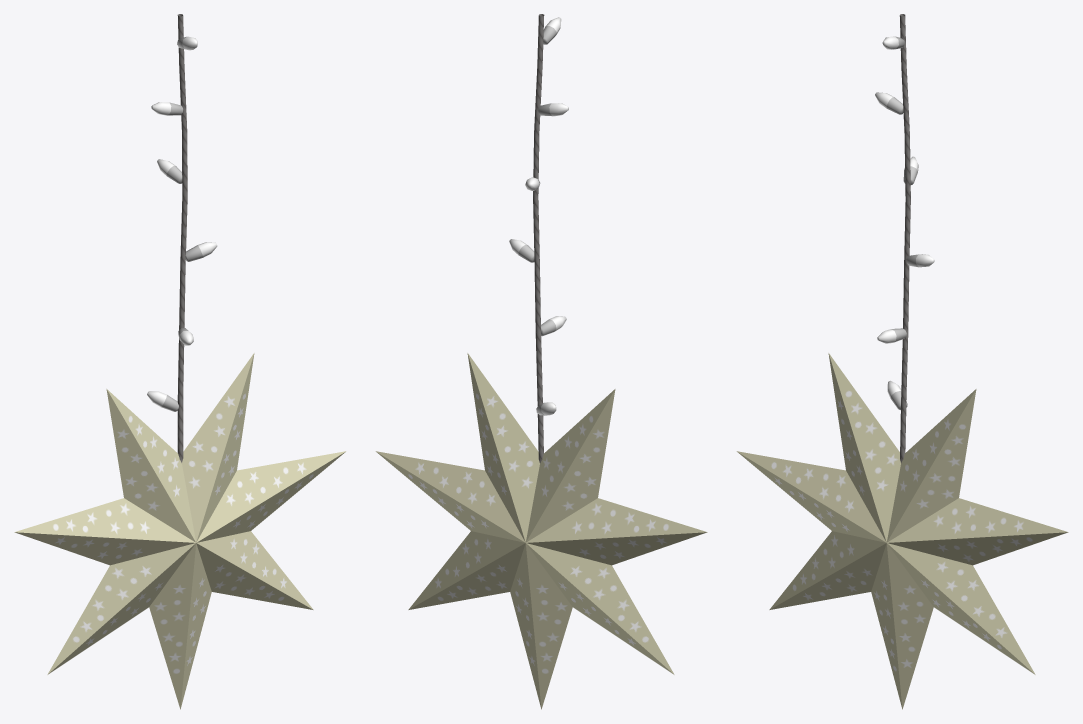
The model's file is PartyHangingStar01B_1.FBX.
The picture shows the model from 3 angles, left to right: view 1: azimuth 30°, elevation 25°; view 2: azimuth 150°, elevation 25°; view 3: azimuth 330°, elevation 25°; orthographic projection.
Parts seen in each view (by area): view 1: PartyHangingStar01B_1; view 2: PartyHangingStar01B_1; view 3: PartyHangingStar01B_1.
Part boxes in pixels (x1,y1,x2,y2): PartyHangingStar01B_1: (14, 14, 346, 709); PartyHangingStar01B_1: (375, 14, 707, 709); PartyHangingStar01B_1: (736, 14, 1068, 709).
Size of what is drawn, in the model's own units: 0.3508 by 0.7 by 0.0631.
